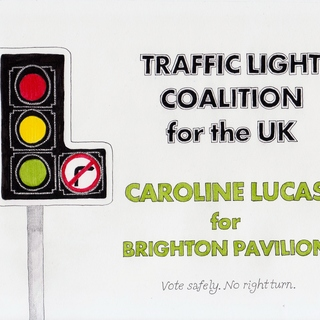No_right_turn: (60, 153, 102, 194)
